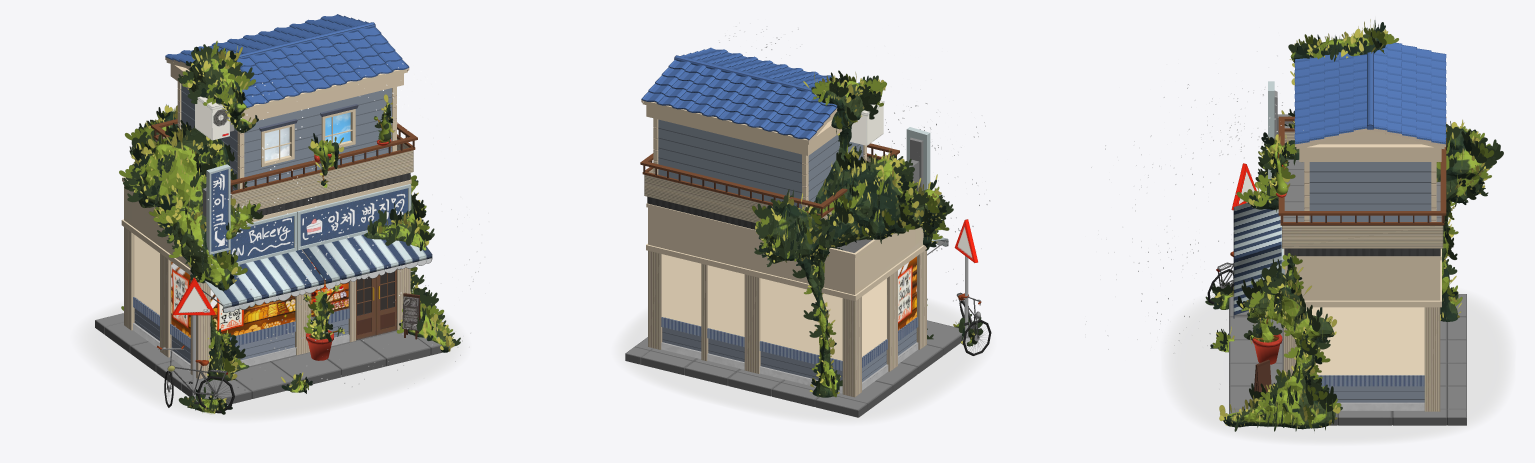
The model's file is korean_bakery.glb.
3 views of the same model, side by side, from view 1: azimuth 30°, elevation 25°; view 2: azimuth 150°, elevation 25°; view 3: azimuth 270°, elevation 25° (orthographic). The views are drawn at different scales.
Visible parts, largest first — view 1: Object_24, Object_20, Object_12, Object_4, Object_8; view 2: Object_24, Object_20, Object_12, Object_4, Object_8; view 3: Object_24, Object_20, Object_4, Object_12, Object_8.
Part boxes in pixels (left/top/right/bottom): Object_24: left=95, top=14, right=442, bottom=404; Object_20: left=119, top=41, right=460, bottom=414; Object_12: left=133, top=96, right=419, bottom=396; Object_4: left=73, top=63, right=489, bottom=422; Object_8: left=157, top=345, right=234, bottom=413; Object_24: left=625, top=47, right=962, bottom=417; Object_20: left=752, top=70, right=983, bottom=397; Object_12: left=661, top=100, right=977, bottom=393; Object_4: left=614, top=23, right=993, bottom=425; Object_8: left=956, top=292, right=991, bottom=355; Object_24: left=1229, top=42, right=1466, bottom=425; Object_20: left=1205, top=19, right=1503, bottom=431; Object_4: left=1085, top=55, right=1515, bottom=445; Object_12: left=1231, top=163, right=1424, bottom=410; Object_8: left=1207, top=251, right=1233, bottom=304.
Bounding box in the file's own units: 5.35 × 4.6 × 5.62.
Materials: 5 (5 with a texture image).
